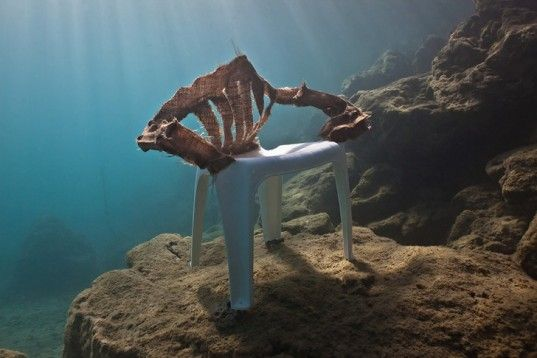Plastic: (135, 53, 385, 303)
